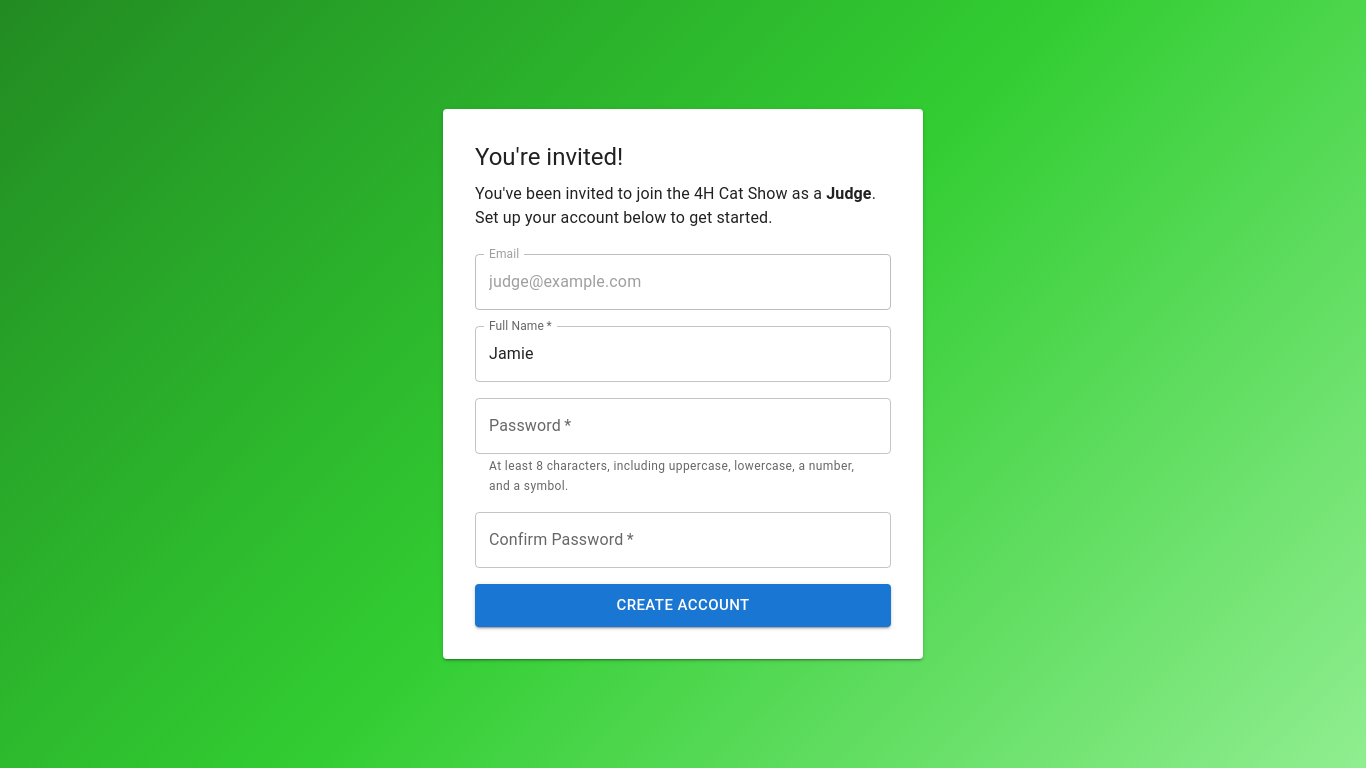
Test: AcceptInvitePage › shows an error when passwords do not match
The image size is (1366, 768).
Expected: the heading "You're invited!" is shown, [475,143,623,171]
Step 1. Type "SuperSecret1!" into the password field labelled "Password *" → (683, 426), box [475,398,891,454]
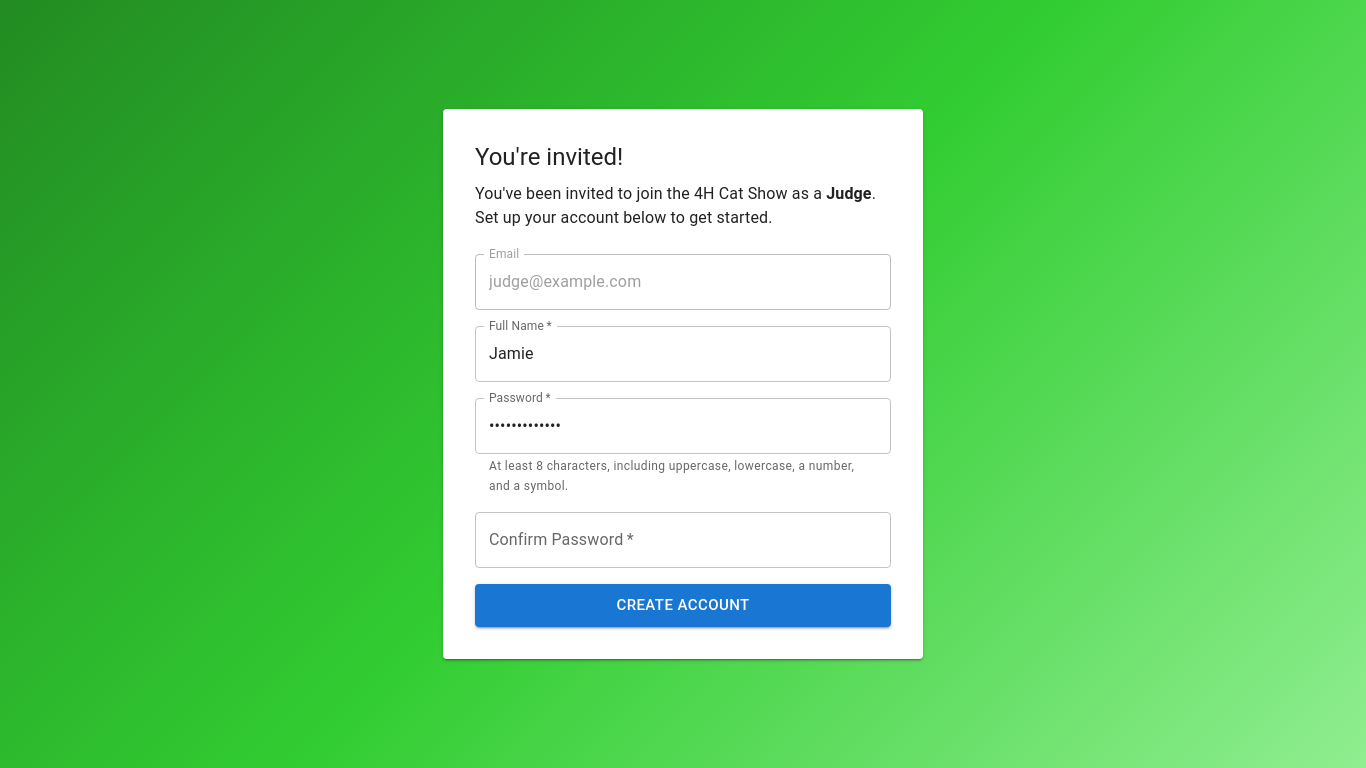
Step 2. Type "Different1!" into the password field labelled "Confirm Password *" → (683, 540), box [475,512,891,568]
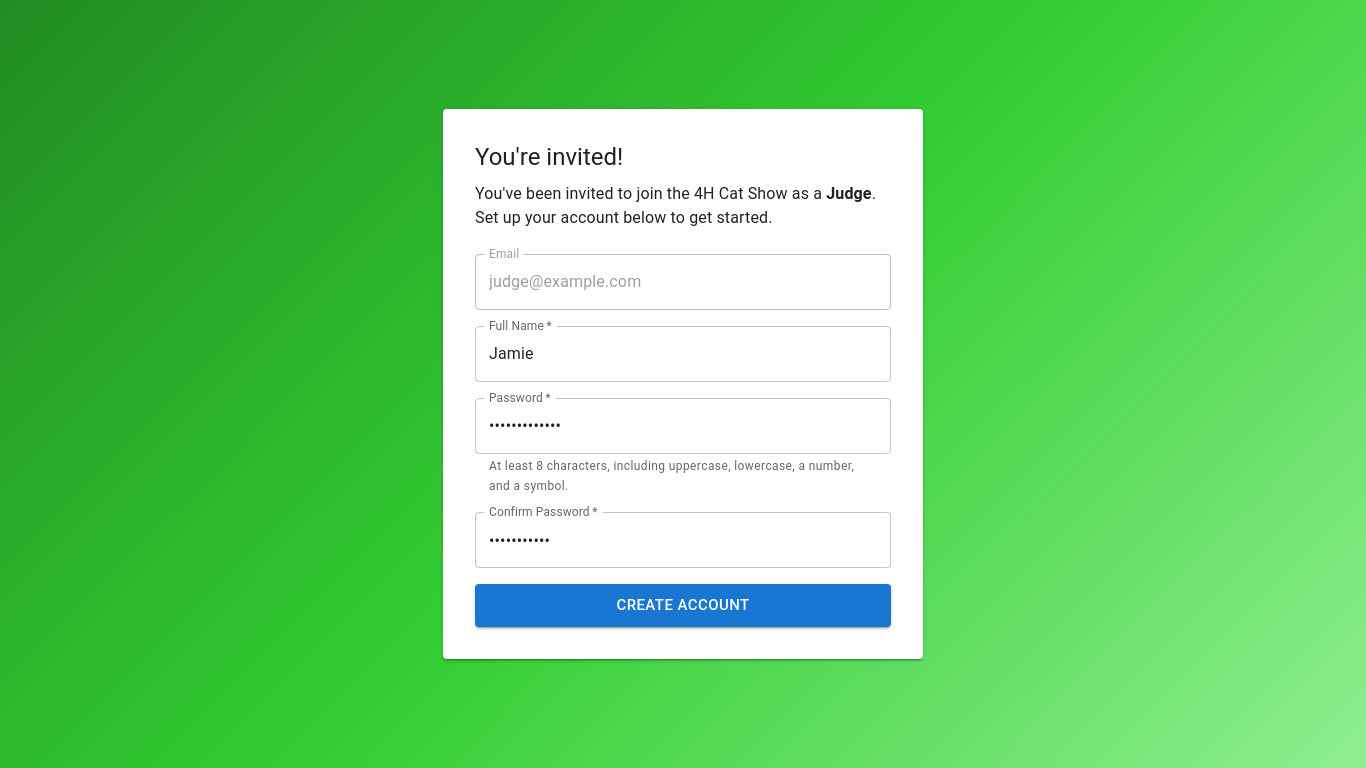
Step 3. Click the button "Create Account" → (683, 606), box [475,584,891,627]
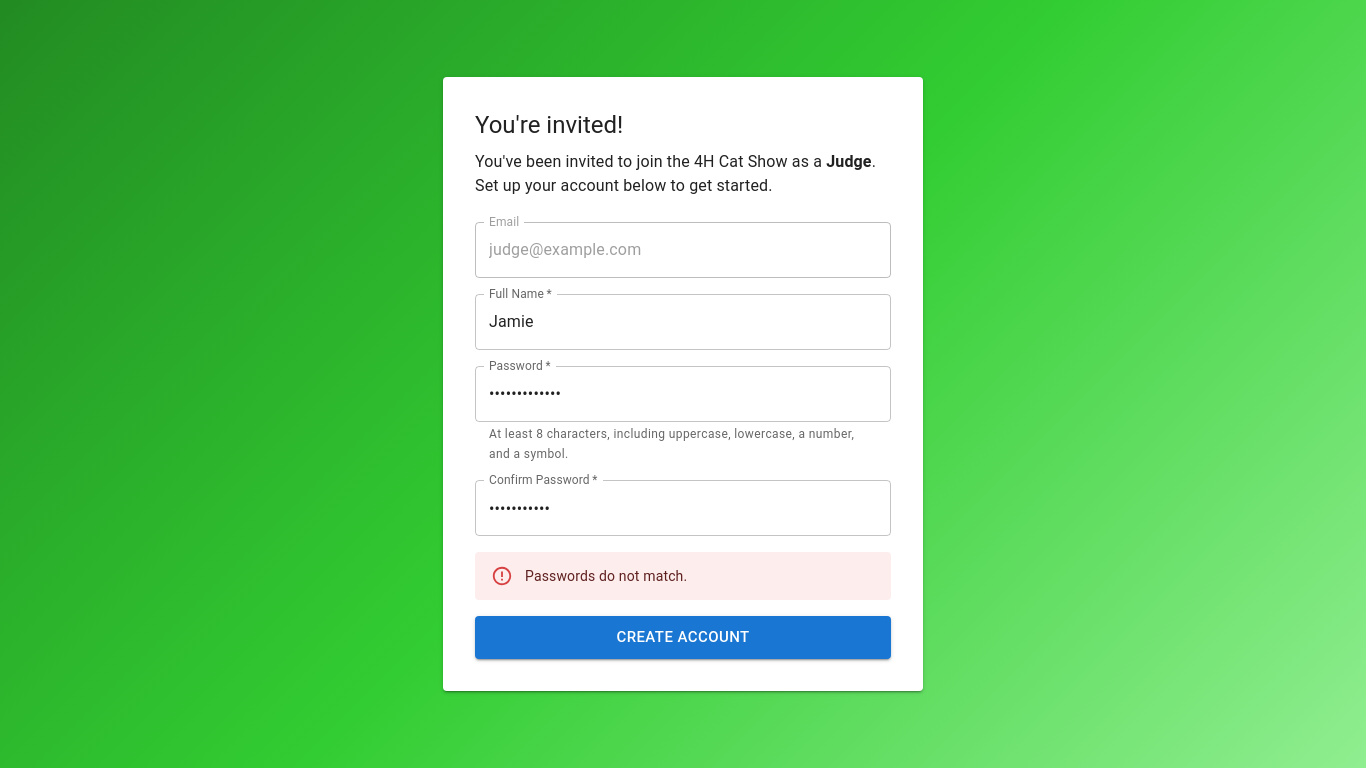
Now the text "Passwords do not match." is shown, box [525,568,687,584]
